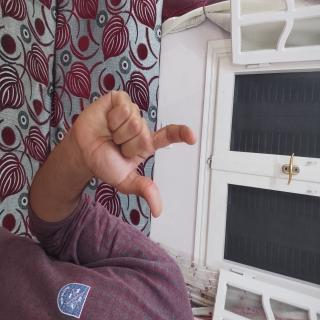NOON: (65, 160, 169, 320)
